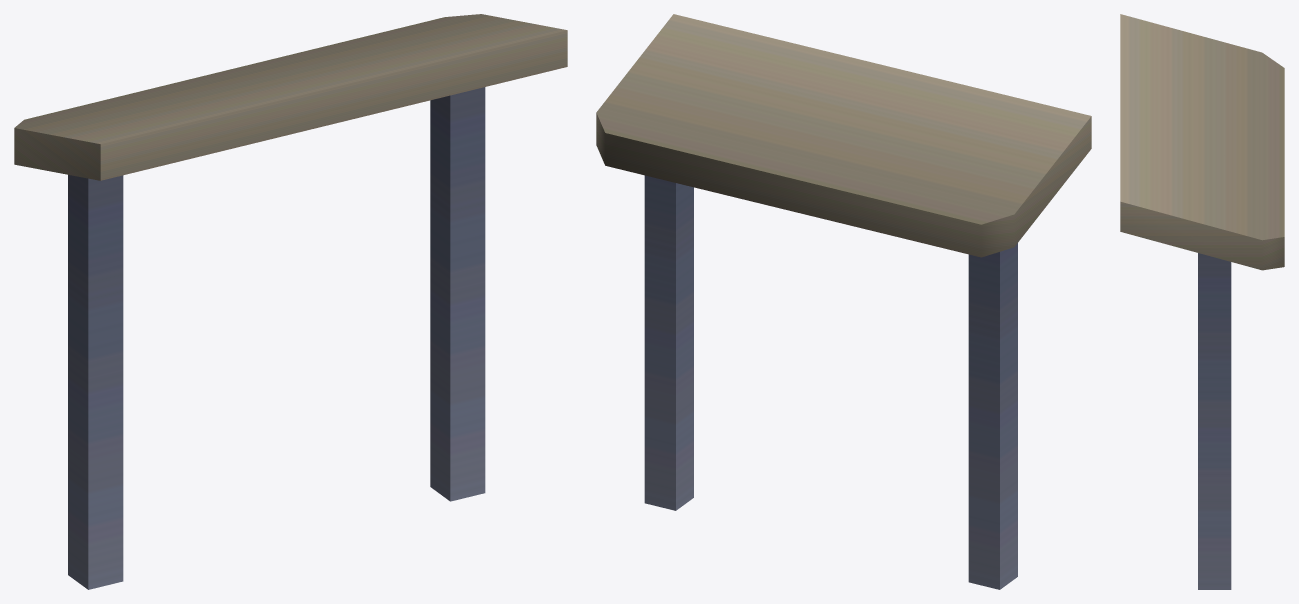
The model's file is detail-awning.glb.
3 renders of one model, left to right at view 1: azimuth 30°, elevation 25°; view 2: azimuth 150°, elevation 25°; view 3: azimuth 270°, elevation 25°, orthographic. The views are drawn at different scales.
Visible parts, largest first — view 1: detail-awning; view 2: detail-awning; view 3: detail-awning.
Boxes of the visible parts, x1,y1,x2,y2 form: detail-awning: (14,14,567,589); detail-awning: (596,14,1091,589); detail-awning: (1120,14,1284,589).
Bounding box in the file's own units: 0.4 × 0.4 × 0.1479.
1 material, 1 textured.
